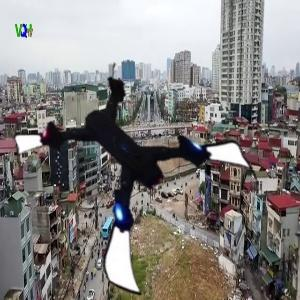drone: (37, 62, 250, 275)
